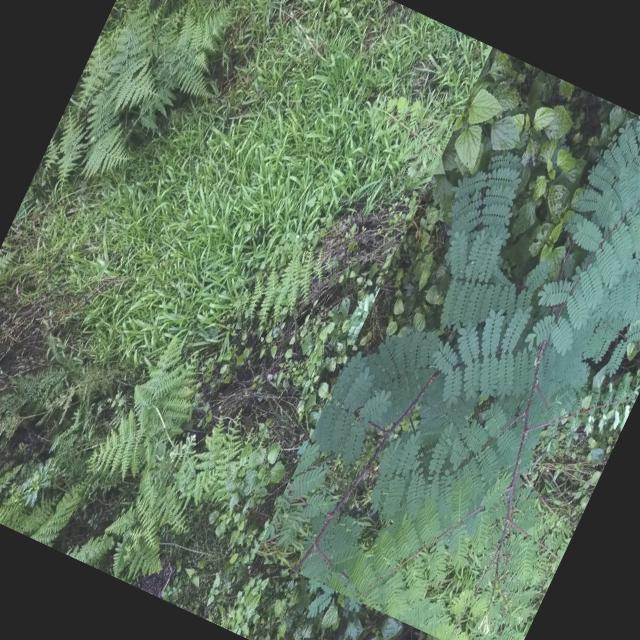Mysore-Thorn-Weed: (256, 47, 640, 640)
